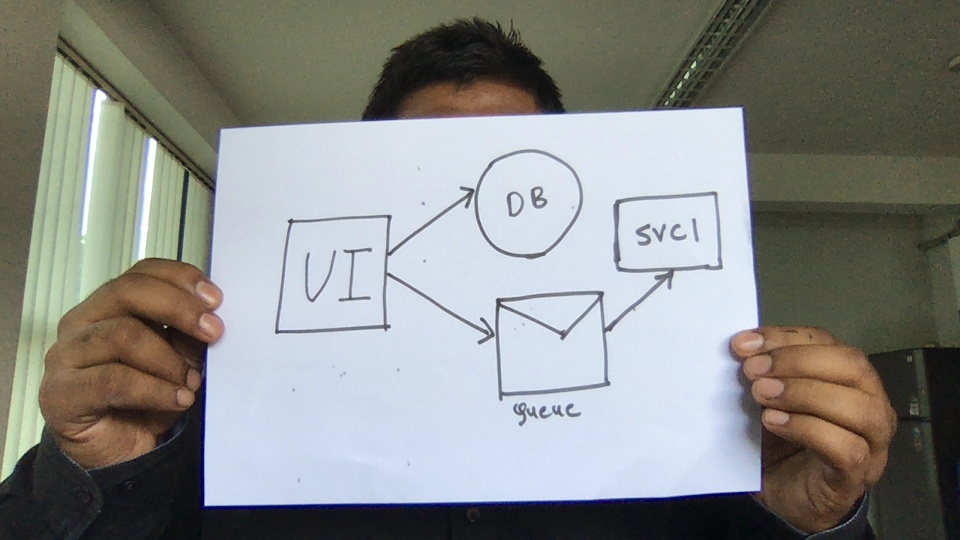db: (469, 144, 586, 268)
ec2: (607, 186, 731, 288)
sns: (483, 283, 624, 414)
ui: (273, 208, 396, 342)
